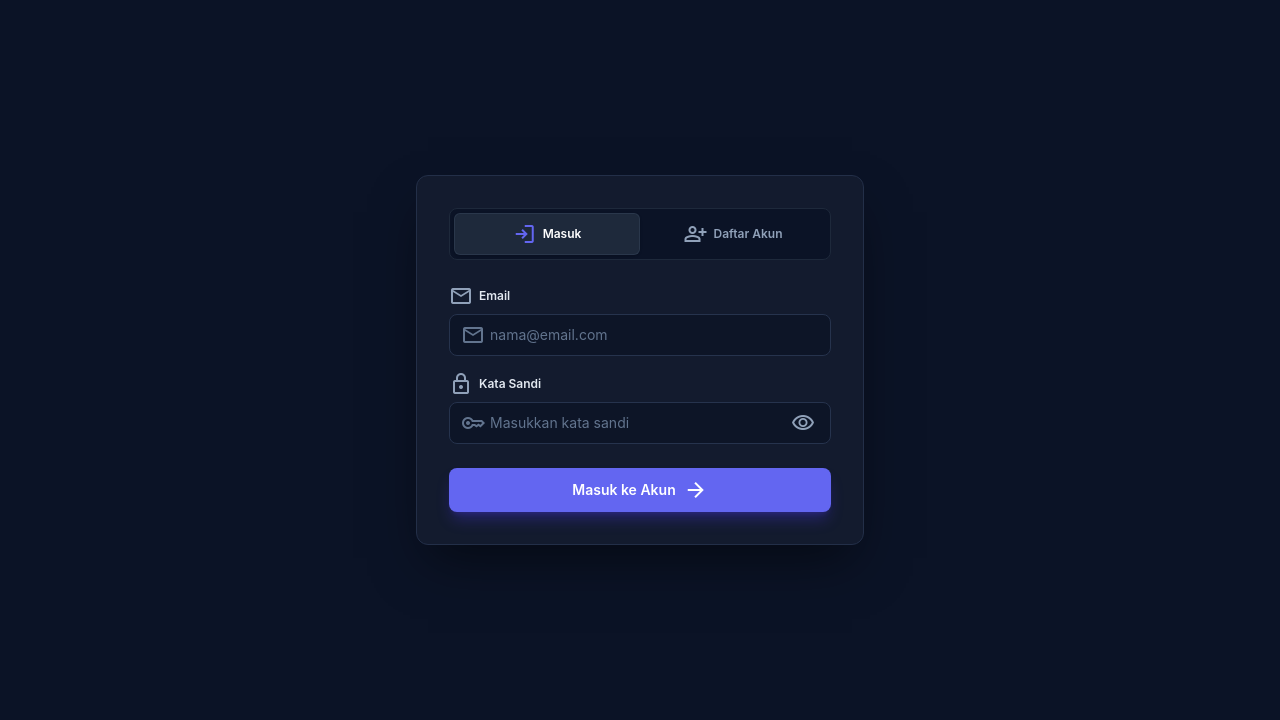
Test: Login spec › should login successfully and display homepage
Type "john@example.com" into the field with placeholder "nama@email.com" at (640, 335), box top-left (449, 314), bottom-right (831, 356)
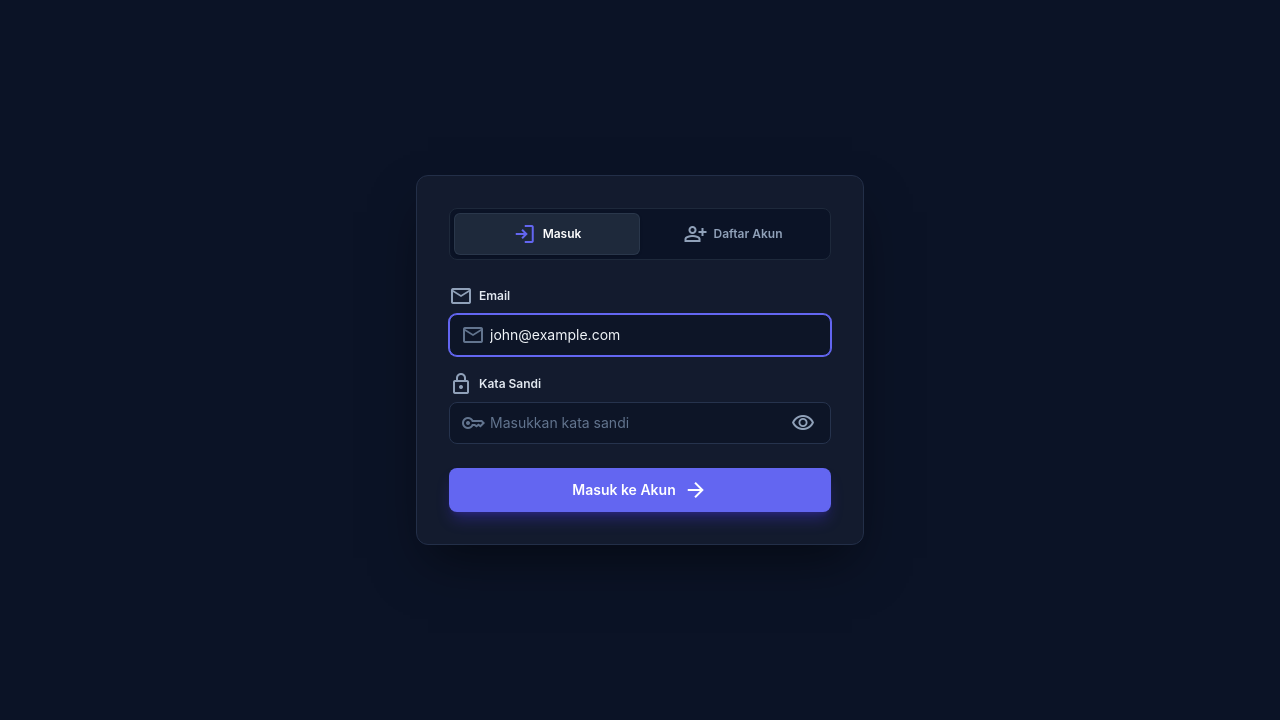
Type "password123" into the password field with placeholder "Masukkan kata sandi" at (640, 423), box top-left (449, 402), bottom-right (831, 444)
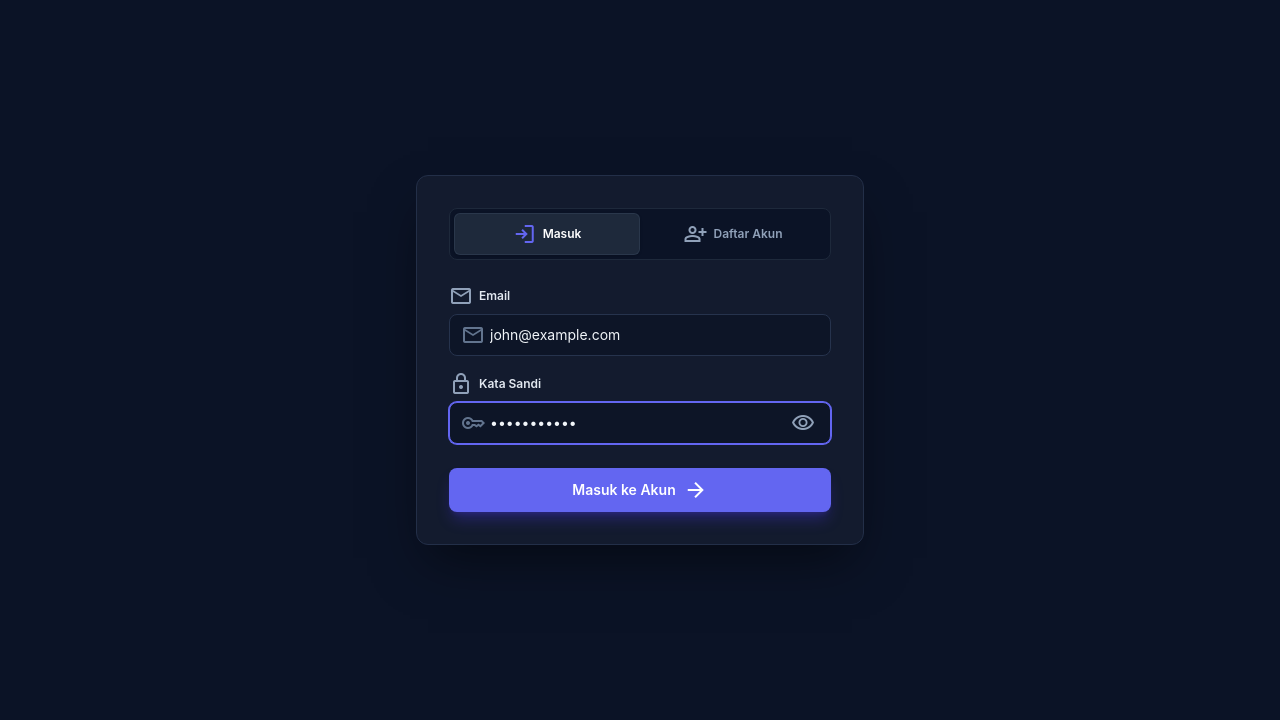
Click the button "Masuk ke Akun" at (640, 490), box top-left (449, 468), bottom-right (831, 512)
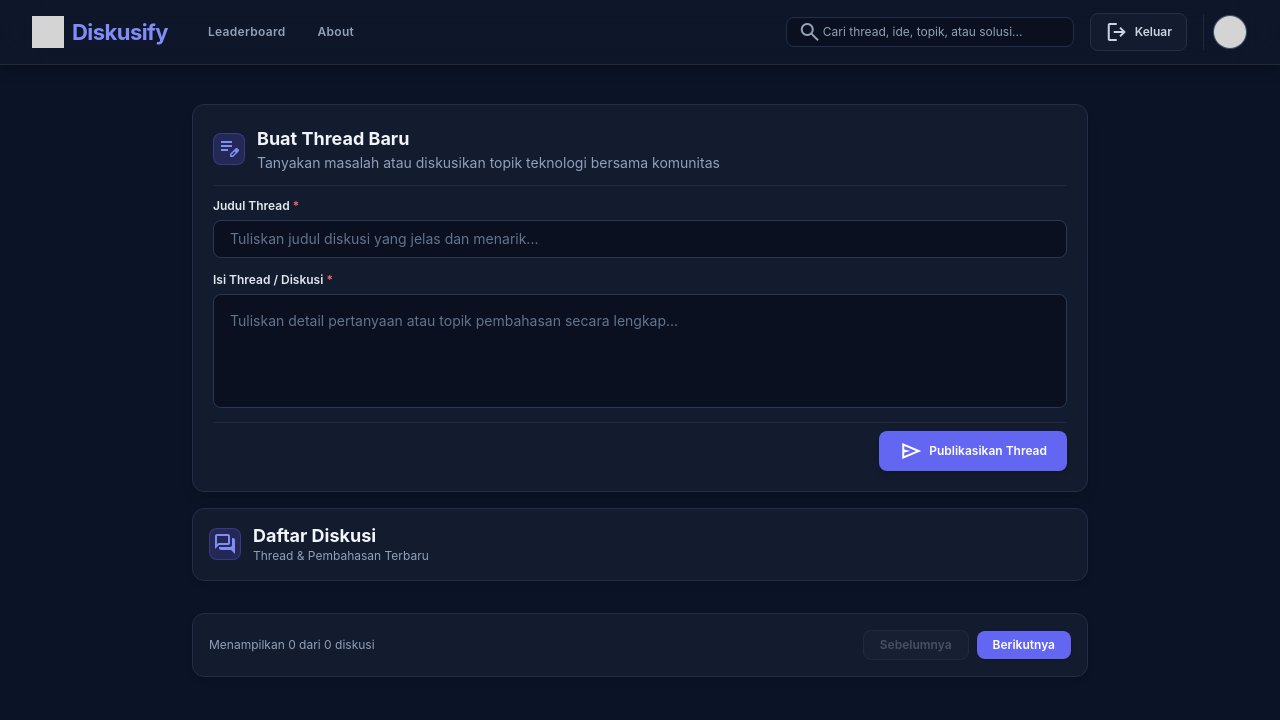
expect the button "Keluar" is shown: met, box top-left (1090, 13), bottom-right (1187, 51)
